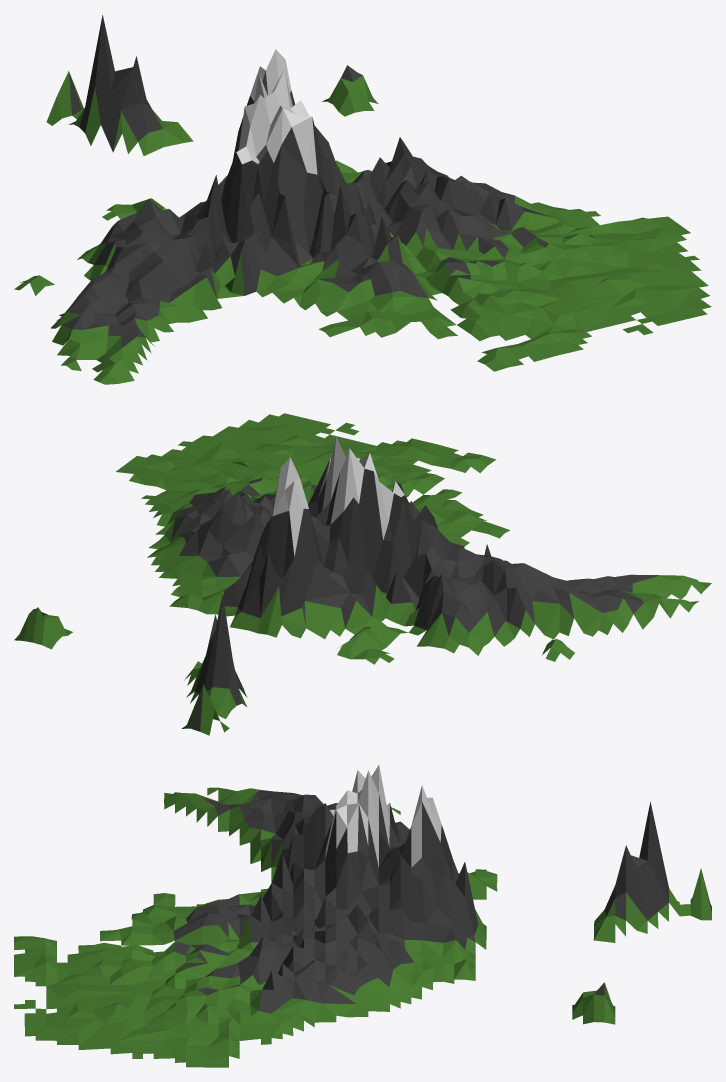
File: Mountain6.fbx
3 views of the same model, one above another, from view 1: azimuth 30°, elevation 25°; view 2: azimuth 150°, elevation 25°; view 3: azimuth 270°, elevation 25° (orthographic). The views are drawn at different scales.
Parts seen in each view (by area): view 1: Plane.019; view 2: Plane.019; view 3: Plane.019.
Part boxes in pixels (bbox=[...]): Plane.019: bbox=[14, 15, 711, 384]; Plane.019: bbox=[14, 413, 711, 735]; Plane.019: bbox=[14, 764, 711, 1067].
Size of the model in its own units: 1386 by 374 by 1477.
